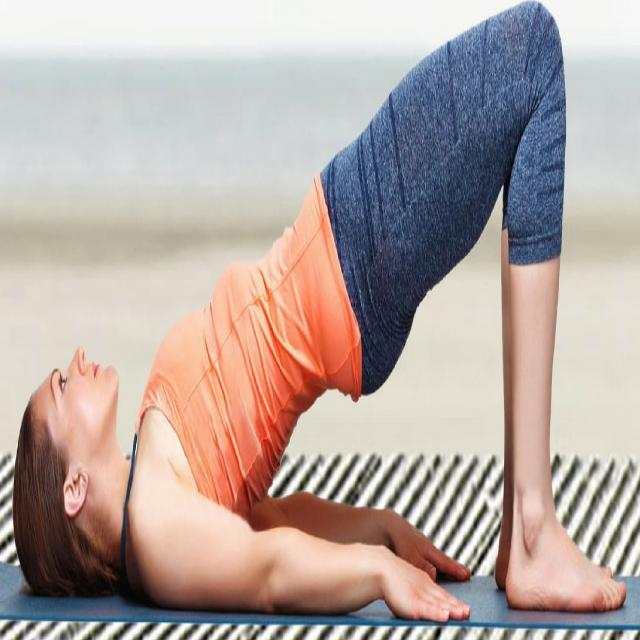yoga-pose bridge: (11, 3, 632, 616)
